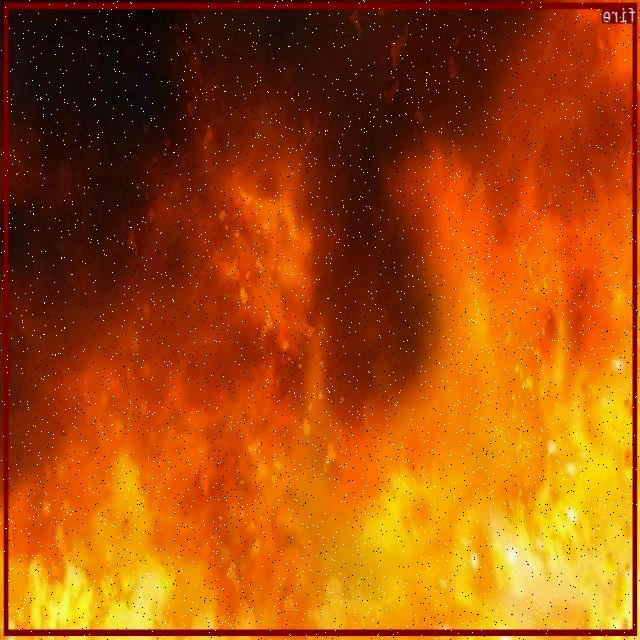fire: (6, 2, 638, 634)
